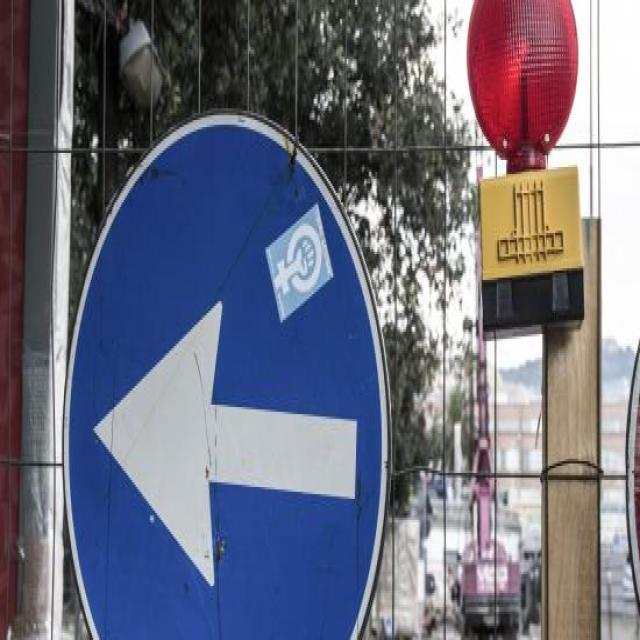Turn Left: (72, 109, 386, 640)
